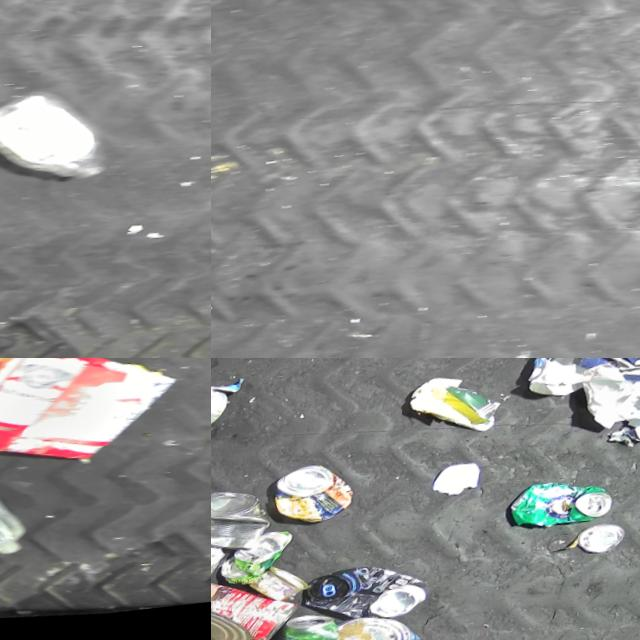can: (309, 563, 441, 636), (513, 485, 624, 545), (274, 463, 365, 534), (211, 575, 310, 640), (211, 485, 283, 563), (225, 529, 301, 591), (253, 564, 319, 610), (211, 598, 265, 640), (340, 616, 434, 640), (279, 612, 352, 640), (582, 533, 634, 568), (211, 528, 235, 594), (211, 383, 233, 437)
milk_jug: (0, 455, 47, 574)
